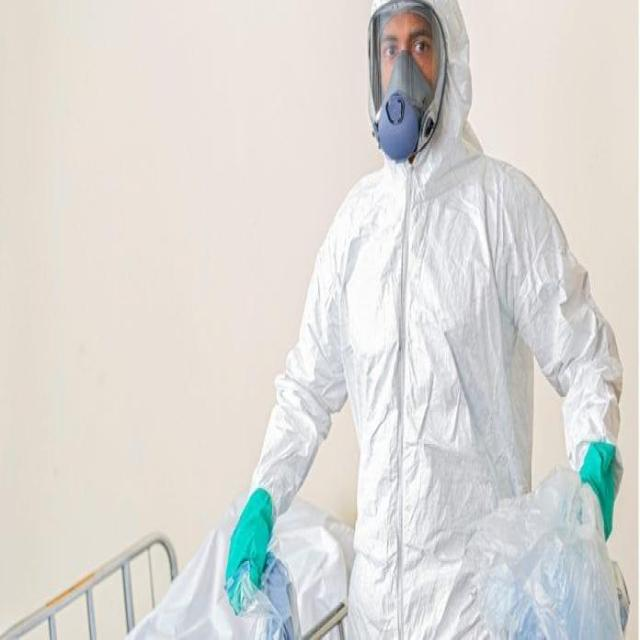Coverall: (240, 0, 636, 637)
Gloves: (220, 488, 296, 625), (573, 423, 627, 546)
Mask: (369, 56, 433, 157)
